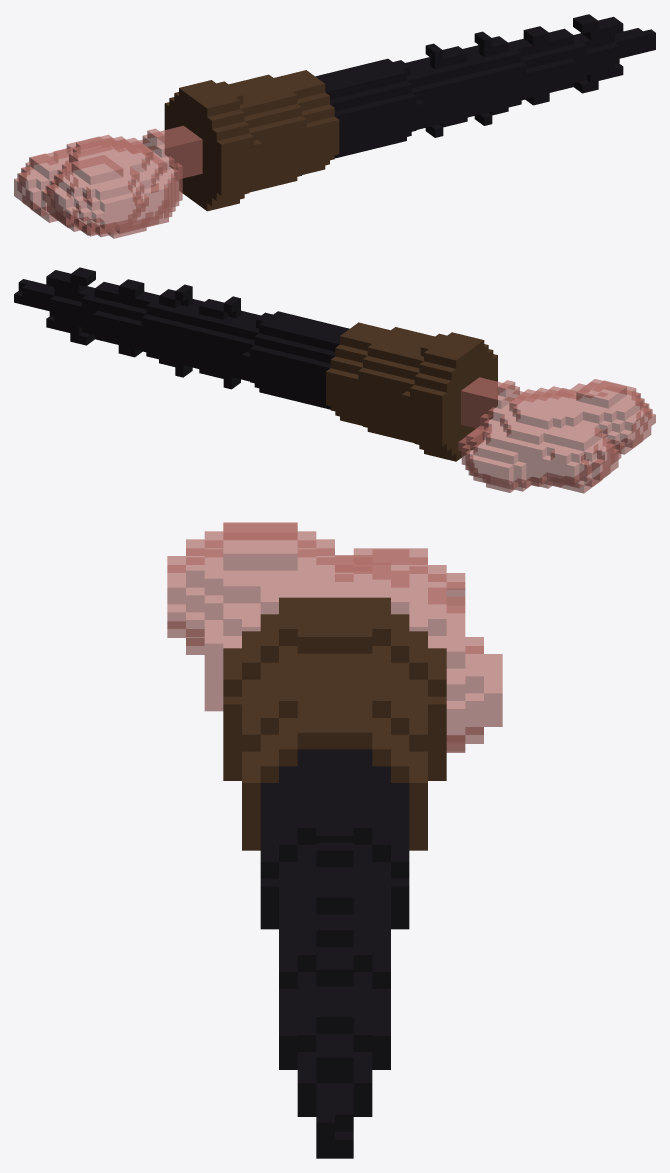
Rendered from wasp_sting.glb.
3 views of the same model, one above another, from view 1: azimuth 30°, elevation 25°; view 2: azimuth 150°, elevation 25°; view 3: azimuth 270°, elevation 25° (orthographic). The views are drawn at different scales.
Visible parts, largest first — view 1: wasp_sting:compound; view 2: wasp_sting:compound; view 3: wasp_sting:compound.
Part boxes in pixels (x1,y1,x2,y2): wasp_sting:compound: (14, 14, 655, 238); wasp_sting:compound: (14, 267, 655, 493); wasp_sting:compound: (167, 522, 502, 1158).
Bounding box in the file's own units: 0.15 × 0.024 × 0.036.
